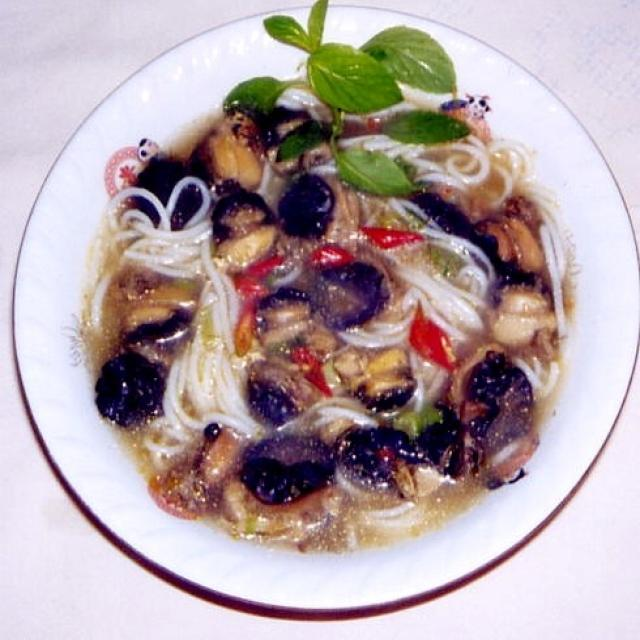面条主食: (21, 12, 615, 616)
